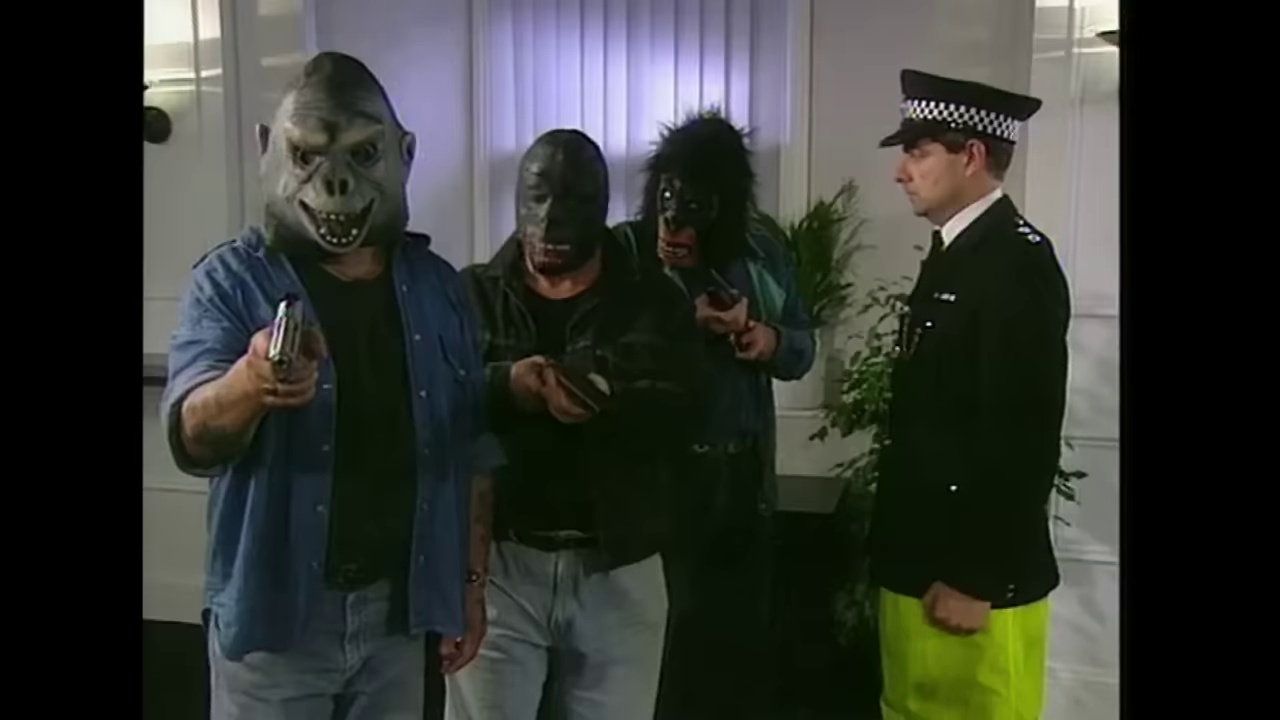gun: (262, 291, 332, 389), (698, 257, 761, 354), (536, 355, 618, 416)
p_w_gun: (160, 47, 498, 720), (448, 125, 691, 720), (613, 109, 818, 720)
p_wo_gun_not_carrying_normal_pose: (846, 58, 1076, 720)
